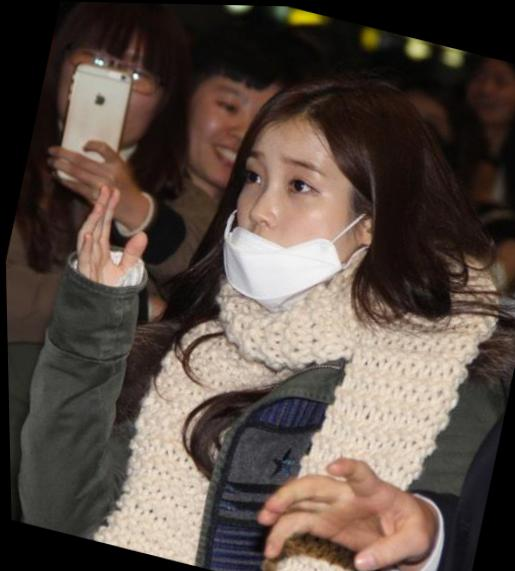NONE: (50, 34, 165, 144), (181, 76, 284, 187), (456, 57, 515, 122)
WRONG: (212, 135, 386, 314)
